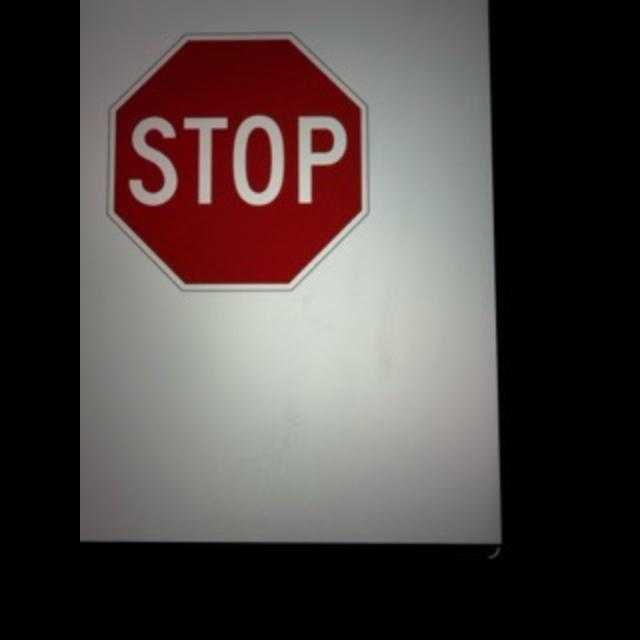STOP: (108, 34, 366, 288)
